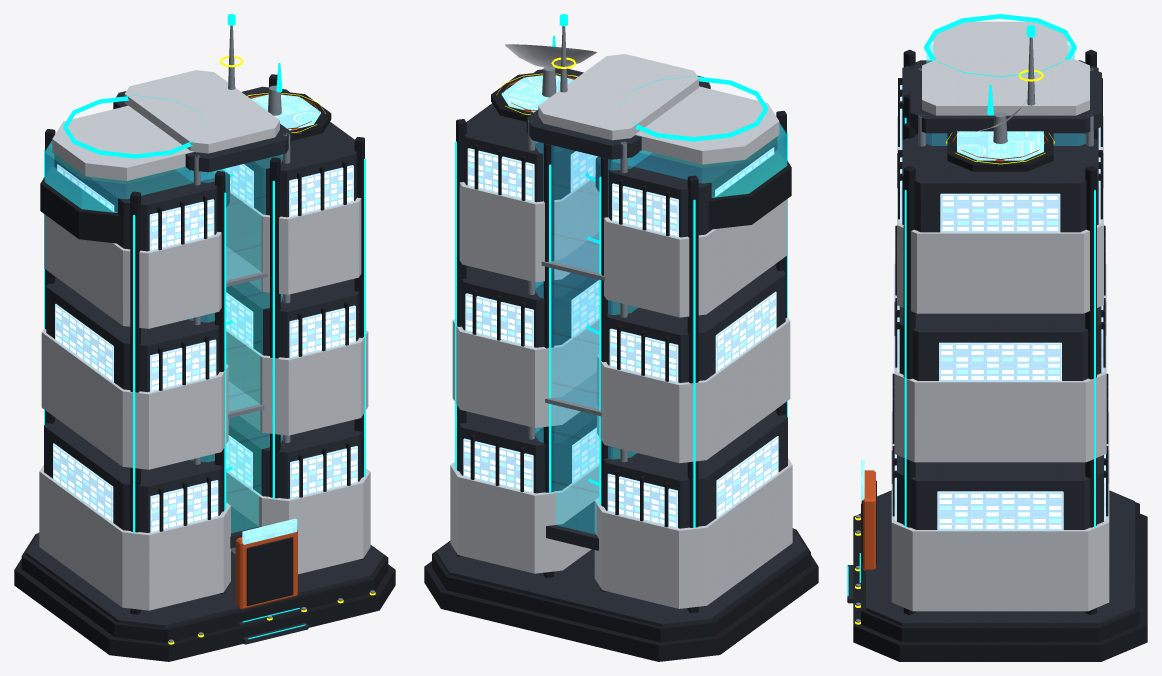
Rendered from bldg_11_r1_03.glb.
The picture shows the model from 3 angles, left to right: view 1: azimuth 30°, elevation 25°; view 2: azimuth 150°, elevation 25°; view 3: azimuth 270°, elevation 25°; orthographic projection. The views are drawn at different scales.
Visible parts, largest first — view 1: Bldg11_C03_aero_white, Bldg11_C03_carbon_slate, Bldg11_C03_gunmetal, Bldg11_C03_window_lit, Bldg11_C03_glass_cyan, Bldg11_C03_led_cyan, Bldg11_C03_steel_machined, Bldg11_C03_marquee, Bldg11_C03_accent_orange; view 2: Bldg11_C03_aero_white, Bldg11_C03_carbon_slate, Bldg11_C03_gunmetal, Bldg11_C03_window_lit, Bldg11_C03_glass_cyan, Bldg11_C03_led_cyan, Bldg11_C03_steel_machined, Bldg11_C03_marquee; view 3: Bldg11_C03_aero_white, Bldg11_C03_carbon_slate, Bldg11_C03_gunmetal, Bldg11_C03_window_lit, Bldg11_C03_led_cyan, Bldg11_C03_marquee, Bldg11_C03_accent_orange, Bldg11_C03_steel_machined, Bldg11_C03_glass_cyan.
Boxes of the visible parts, x1,y1,x2,y2 form: Bldg11_C03_aero_white: [39, 70, 370, 610]; Bldg11_C03_carbon_slate: [26, 86, 383, 644]; Bldg11_C03_gunmetal: [14, 74, 395, 661]; Bldg11_C03_window_lit: [53, 164, 357, 532]; Bldg11_C03_glass_cyan: [44, 141, 282, 533]; Bldg11_C03_led_cyan: [44, 14, 365, 639]; Bldg11_C03_steel_machined: [115, 25, 374, 642]; Bldg11_C03_marquee: [242, 94, 320, 544]; Bldg11_C03_accent_orange: [235, 94, 319, 609]; Bldg11_C03_aero_white: [450, 44, 792, 608]; Bldg11_C03_carbon_slate: [436, 68, 806, 626]; Bldg11_C03_gunmetal: [424, 72, 818, 661]; Bldg11_C03_window_lit: [463, 147, 778, 528]; Bldg11_C03_glass_cyan: [535, 123, 787, 534]; Bldg11_C03_led_cyan: [455, 14, 787, 528]; Bldg11_C03_steel_machined: [528, 26, 709, 462]; Bldg11_C03_marquee: [501, 75, 573, 112]; Bldg11_C03_aero_white: [891, 21, 1109, 611]; Bldg11_C03_carbon_slate: [847, 60, 1134, 626]; Bldg11_C03_gunmetal: [853, 49, 1147, 661]; Bldg11_C03_window_lit: [894, 85, 1105, 530]; Bldg11_C03_led_cyan: [847, 14, 1095, 596]; Bldg11_C03_marquee: [861, 131, 1043, 500]; Bldg11_C03_accent_orange: [862, 131, 1048, 570]; Bldg11_C03_steel_machined: [855, 37, 1093, 622]; Bldg11_C03_glass_cyan: [926, 44, 1085, 145].
Bounding box in the file's own units: 12.6 × 22.92 × 10.71.
Materials: 10 (10 with a texture image).
